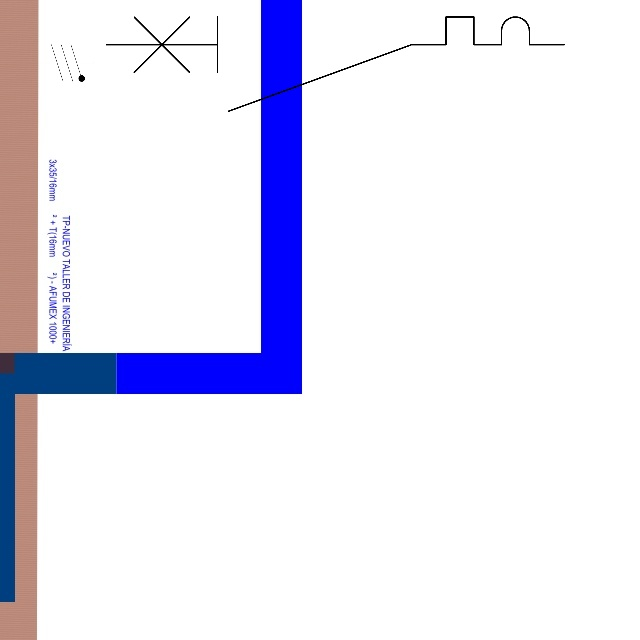interruptor_termomagnetico: (94, 5, 576, 123)
